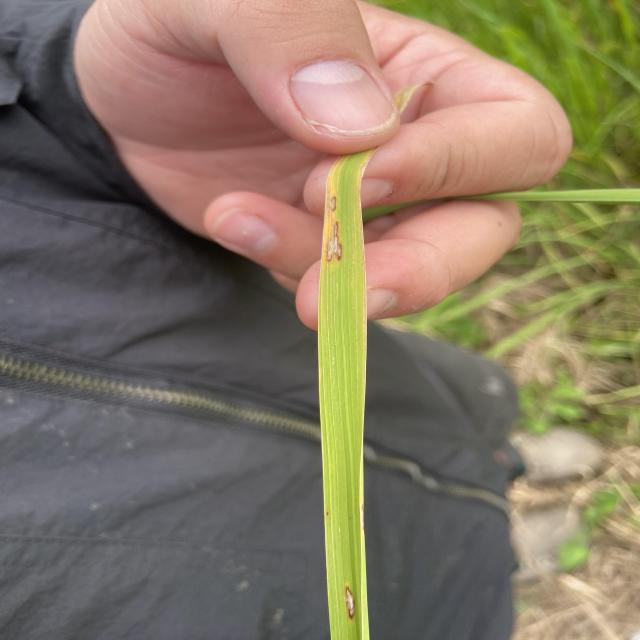Dao on: (326, 221, 344, 262), (345, 586, 354, 620), (330, 196, 337, 212)
